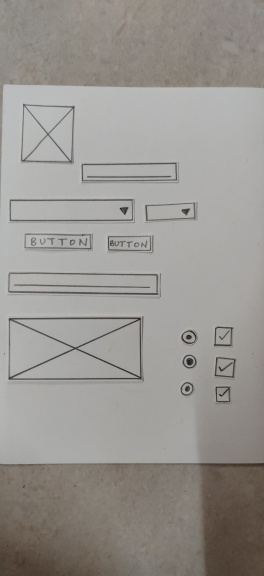button: (23, 231, 94, 250), (106, 234, 156, 254)
checkbox: (213, 354, 236, 377), (214, 326, 234, 348), (213, 385, 234, 403)
dropdown: (9, 197, 135, 224), (144, 200, 199, 221)
img: (7, 312, 146, 386), (21, 101, 76, 166)
radio: (178, 326, 198, 344), (181, 352, 199, 369), (180, 380, 193, 397)
text: (6, 270, 165, 298), (81, 164, 179, 184)
